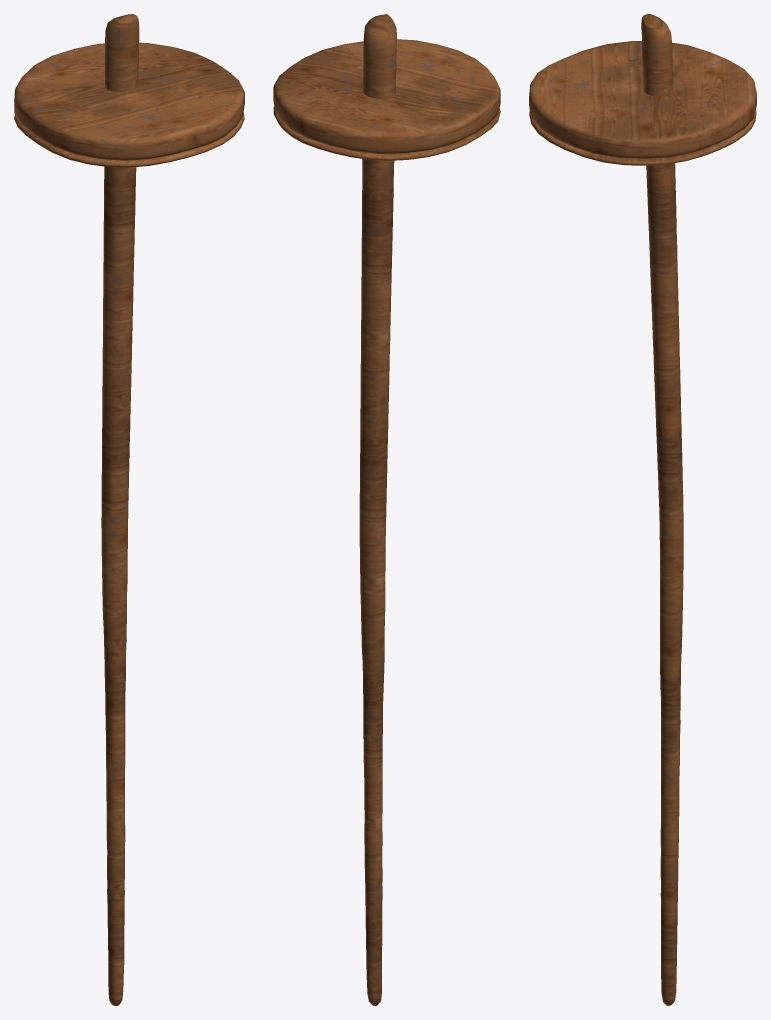
Rendered from Fuseau.fbx.
3 views of the same model, side by side, from view 1: azimuth 30°, elevation 25°; view 2: azimuth 150°, elevation 25°; view 3: azimuth 270°, elevation 25° (orthographic).
Visible parts, largest first — view 1: Retopo_Cylinder.001; view 2: Retopo_Cylinder.001; view 3: Retopo_Cylinder.001.
Boxes of the visible parts, x1,y1,x2,y2 form: Retopo_Cylinder.001: (14, 14, 244, 1005); Retopo_Cylinder.001: (273, 14, 500, 1005); Retopo_Cylinder.001: (529, 14, 756, 1005).
Bounding box in the file's own units: 136 × 654 × 136.
1 material, 1 textured.
